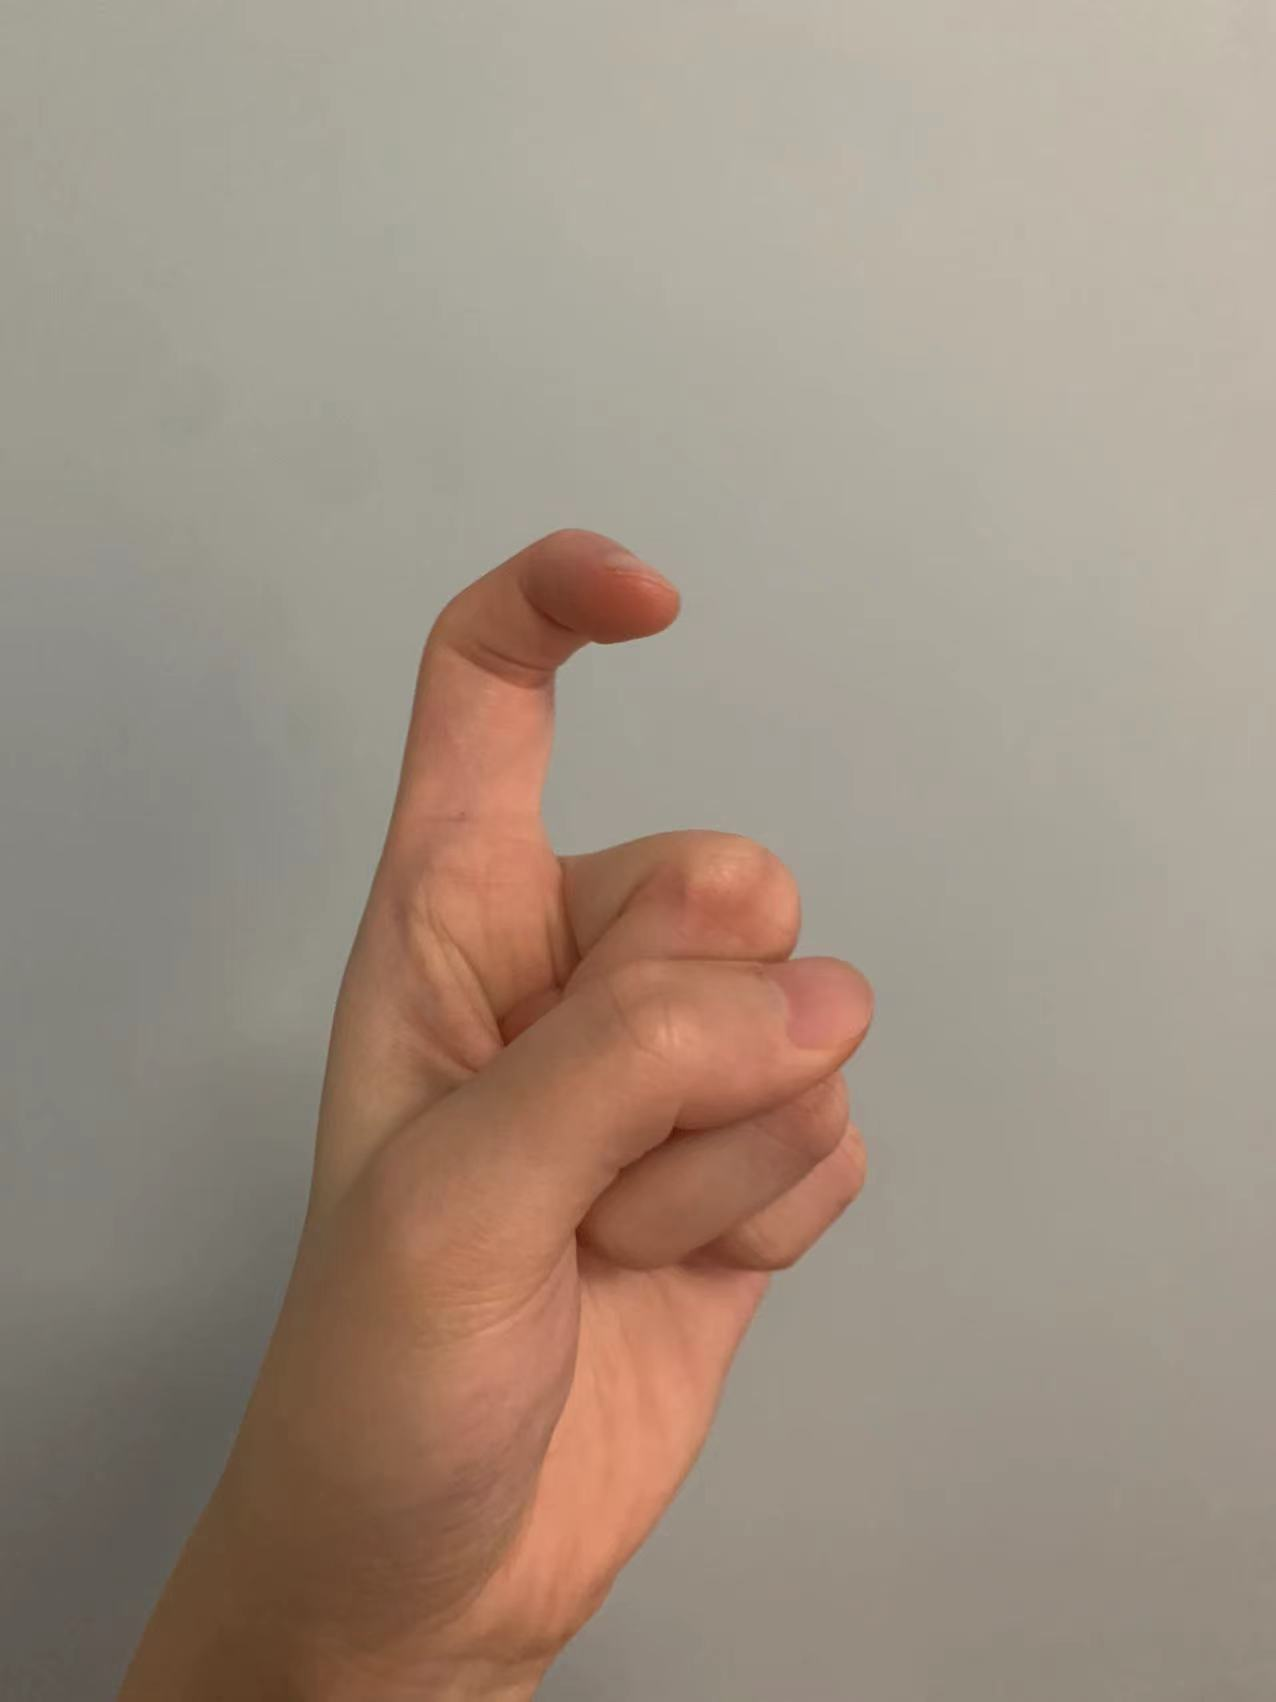anticlockwise: (213, 524, 905, 1591)
